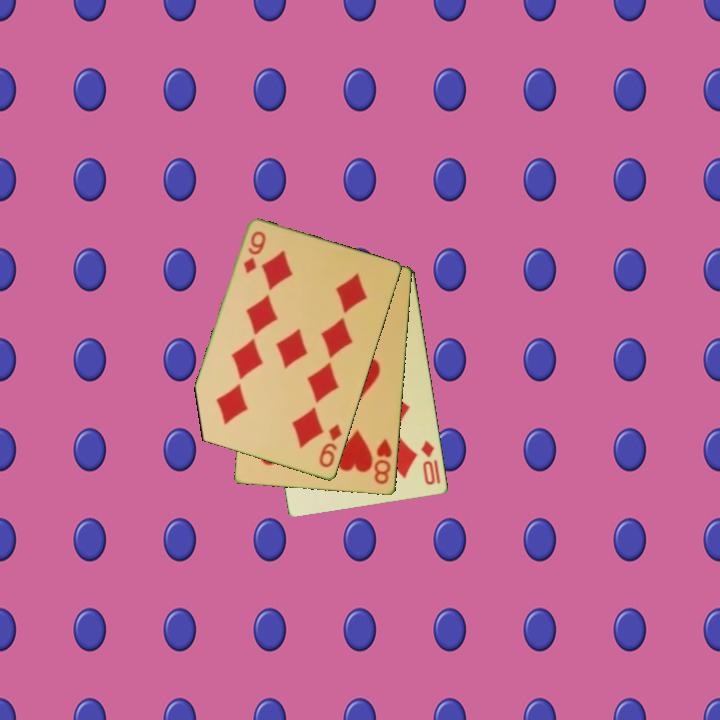10d: (418, 437, 444, 488)
8h: (371, 436, 395, 487)
9d: (316, 420, 345, 471), (240, 228, 269, 276)
